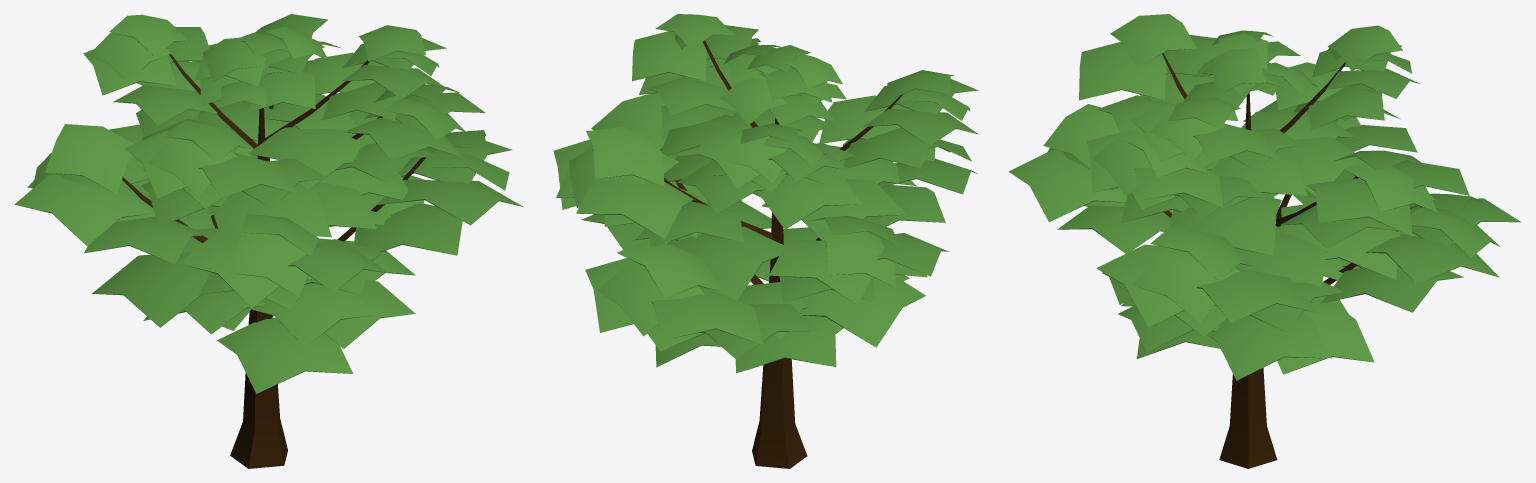
Rendered from leafy tree.fbx.
3 renders of one model, left to right at view 1: azimuth 30°, elevation 25°; view 2: azimuth 150°, elevation 25°; view 3: azimuth 270°, elevation 25°, orthographic. The views are drawn at different scales.
Visible parts, largest first — view 1: tree; view 2: tree; view 3: tree.
Part boxes in pixels (box(x1,y1,x2,y2)): tree: box(14, 14, 523, 468); tree: box(553, 14, 978, 468); tree: box(1008, 14, 1521, 468).
Bounding box in the file's own units: 5.8 × 5.24 × 5.89.
